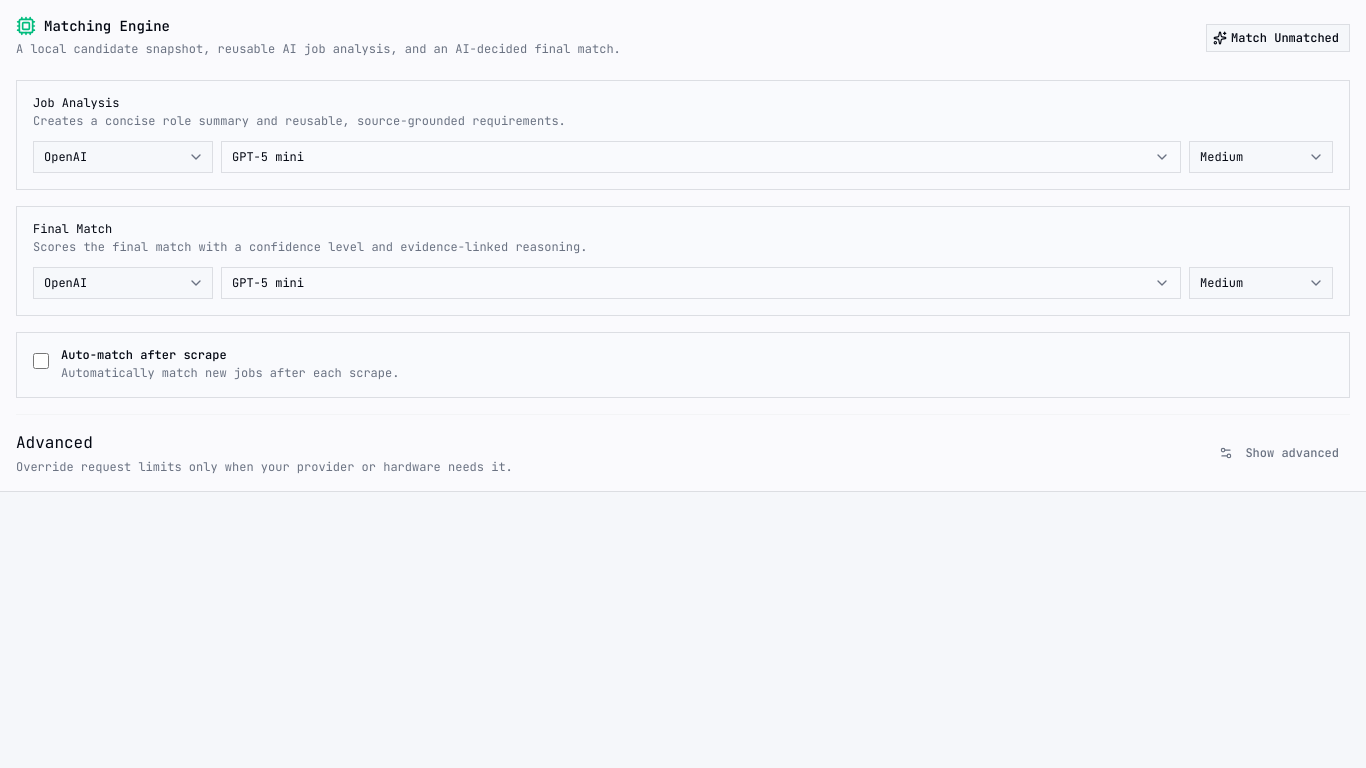
Test: MatcherSection › keeps operational overrides behind Advanced settings
The width and height of the screenshot is (1366, 768).
Expected: the dropdown named "Job analysis reasoning effort" is shown, [1189,140,1333,172]
Expected: the dropdown named "Final match reasoning effort" is shown, [1189,266,1333,298]
Click the button "Show advanced": (1279,452) [1208,436,1350,468]
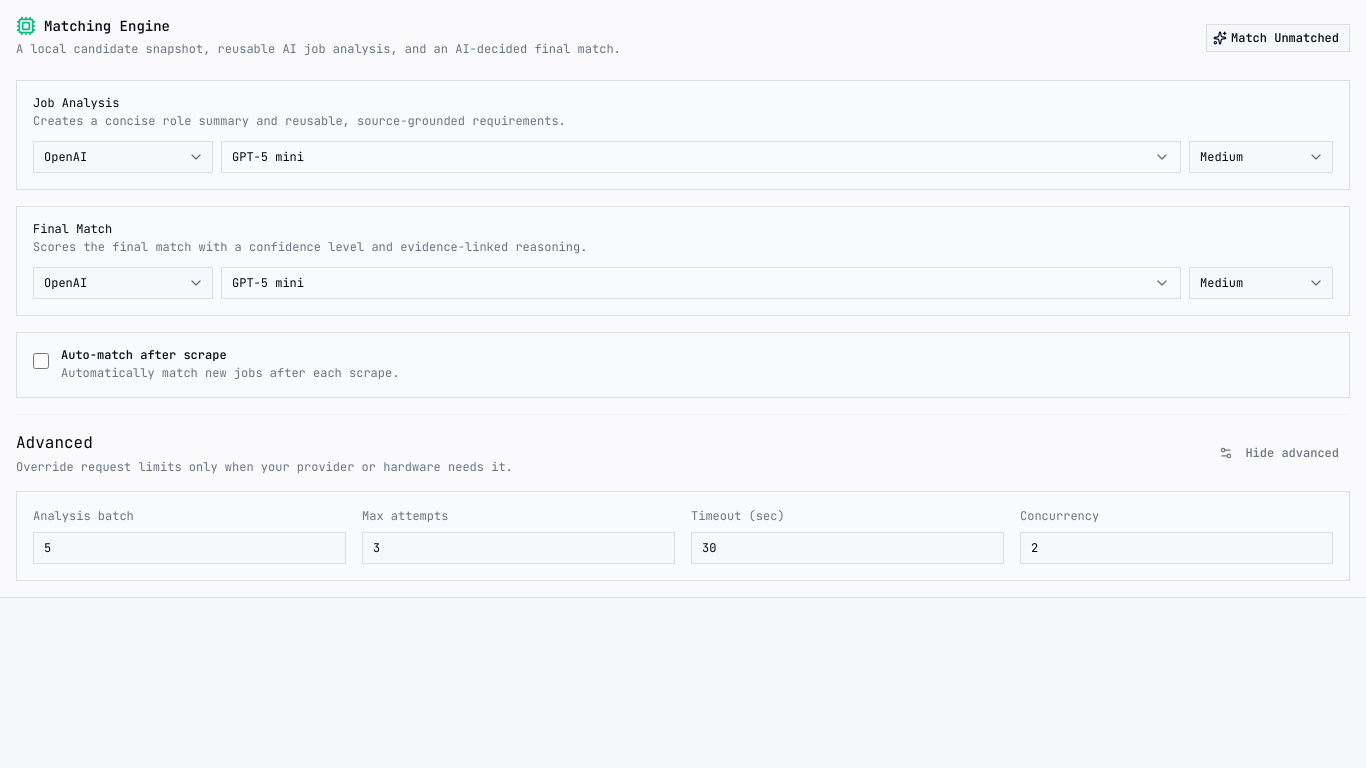
Expected: the number field labelled "Analysis batch" is shown, [33,532,346,564]
Expected: the number field labelled "Max attempts" is shown, [362,532,675,564]
Expected: the number field labelled "Timeout (sec)" is shown, [691,532,1004,564]
